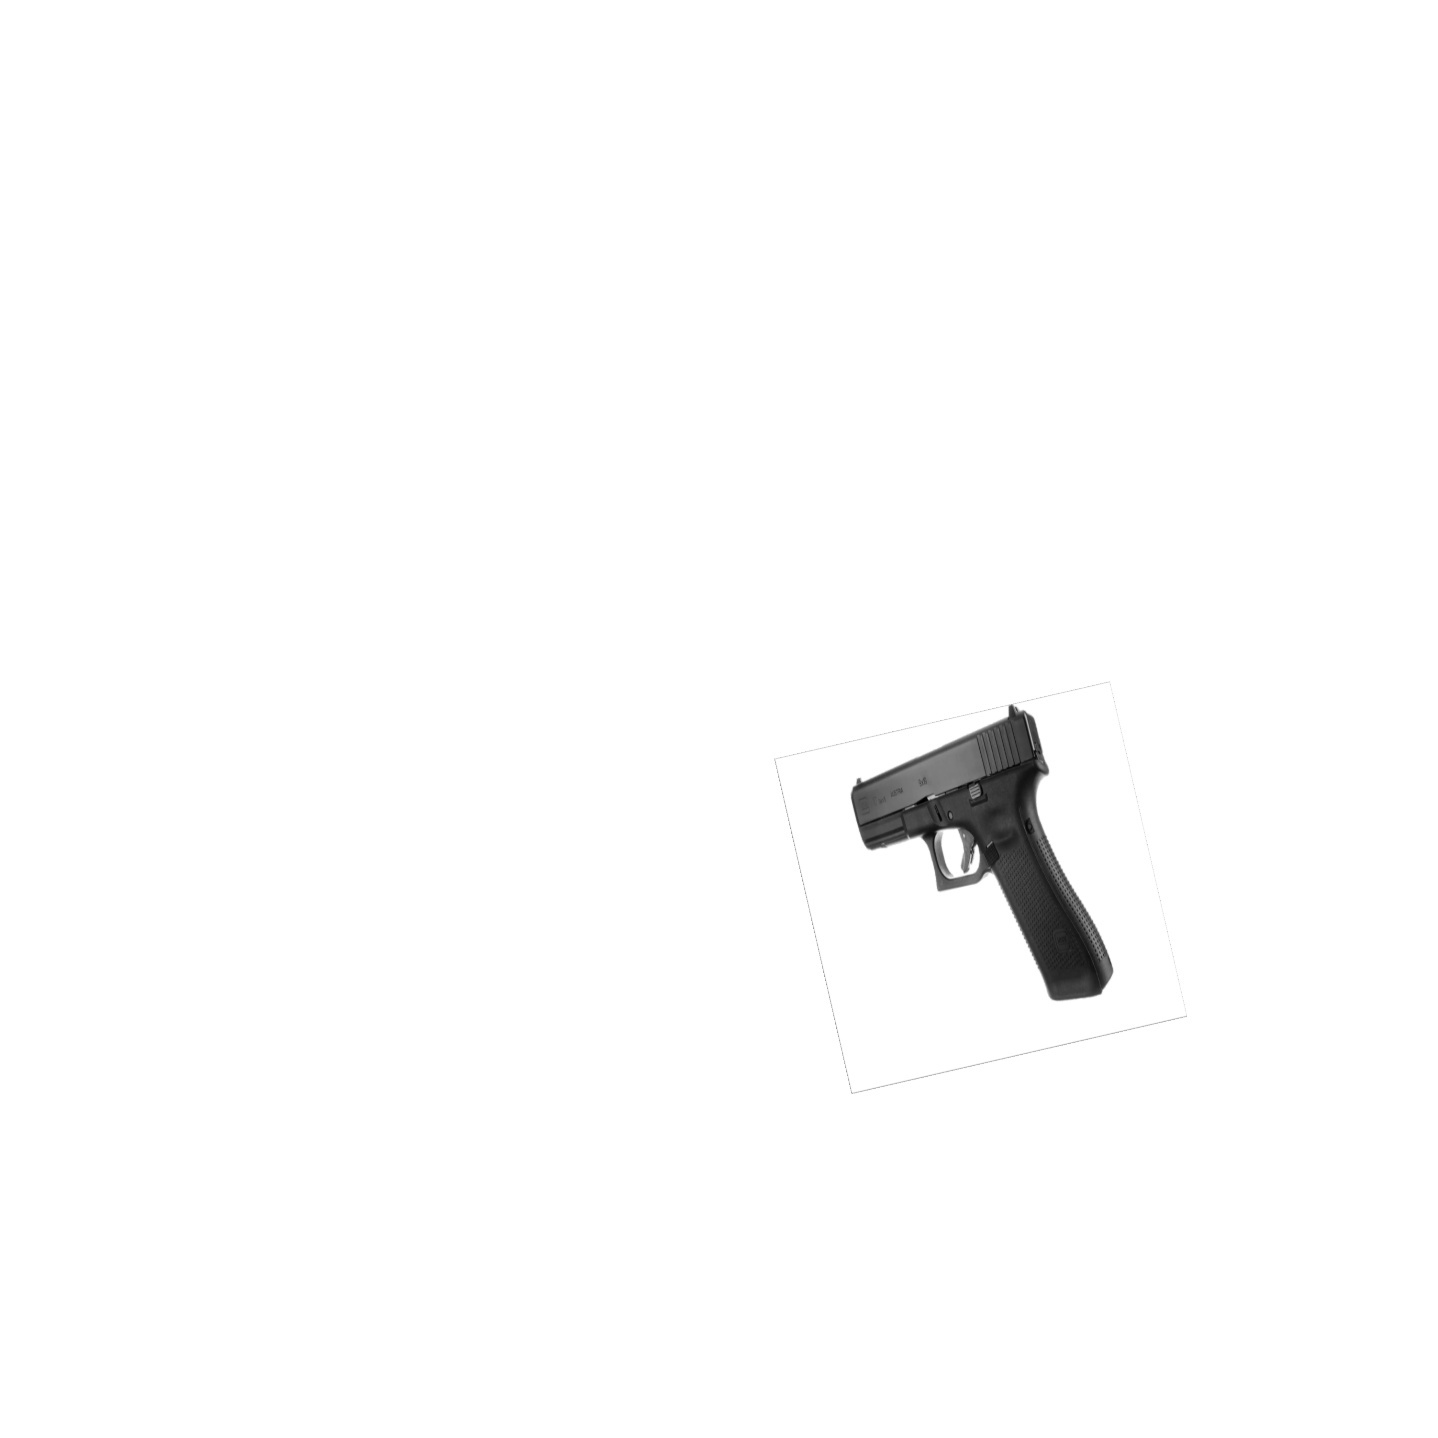gun: (849, 706, 1113, 1003)
